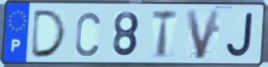8: (111, 10, 141, 58)
C: (73, 10, 102, 58)
D: (29, 8, 69, 59)
J: (225, 11, 255, 59)
T: (150, 9, 179, 60)
V: (184, 8, 223, 61)
